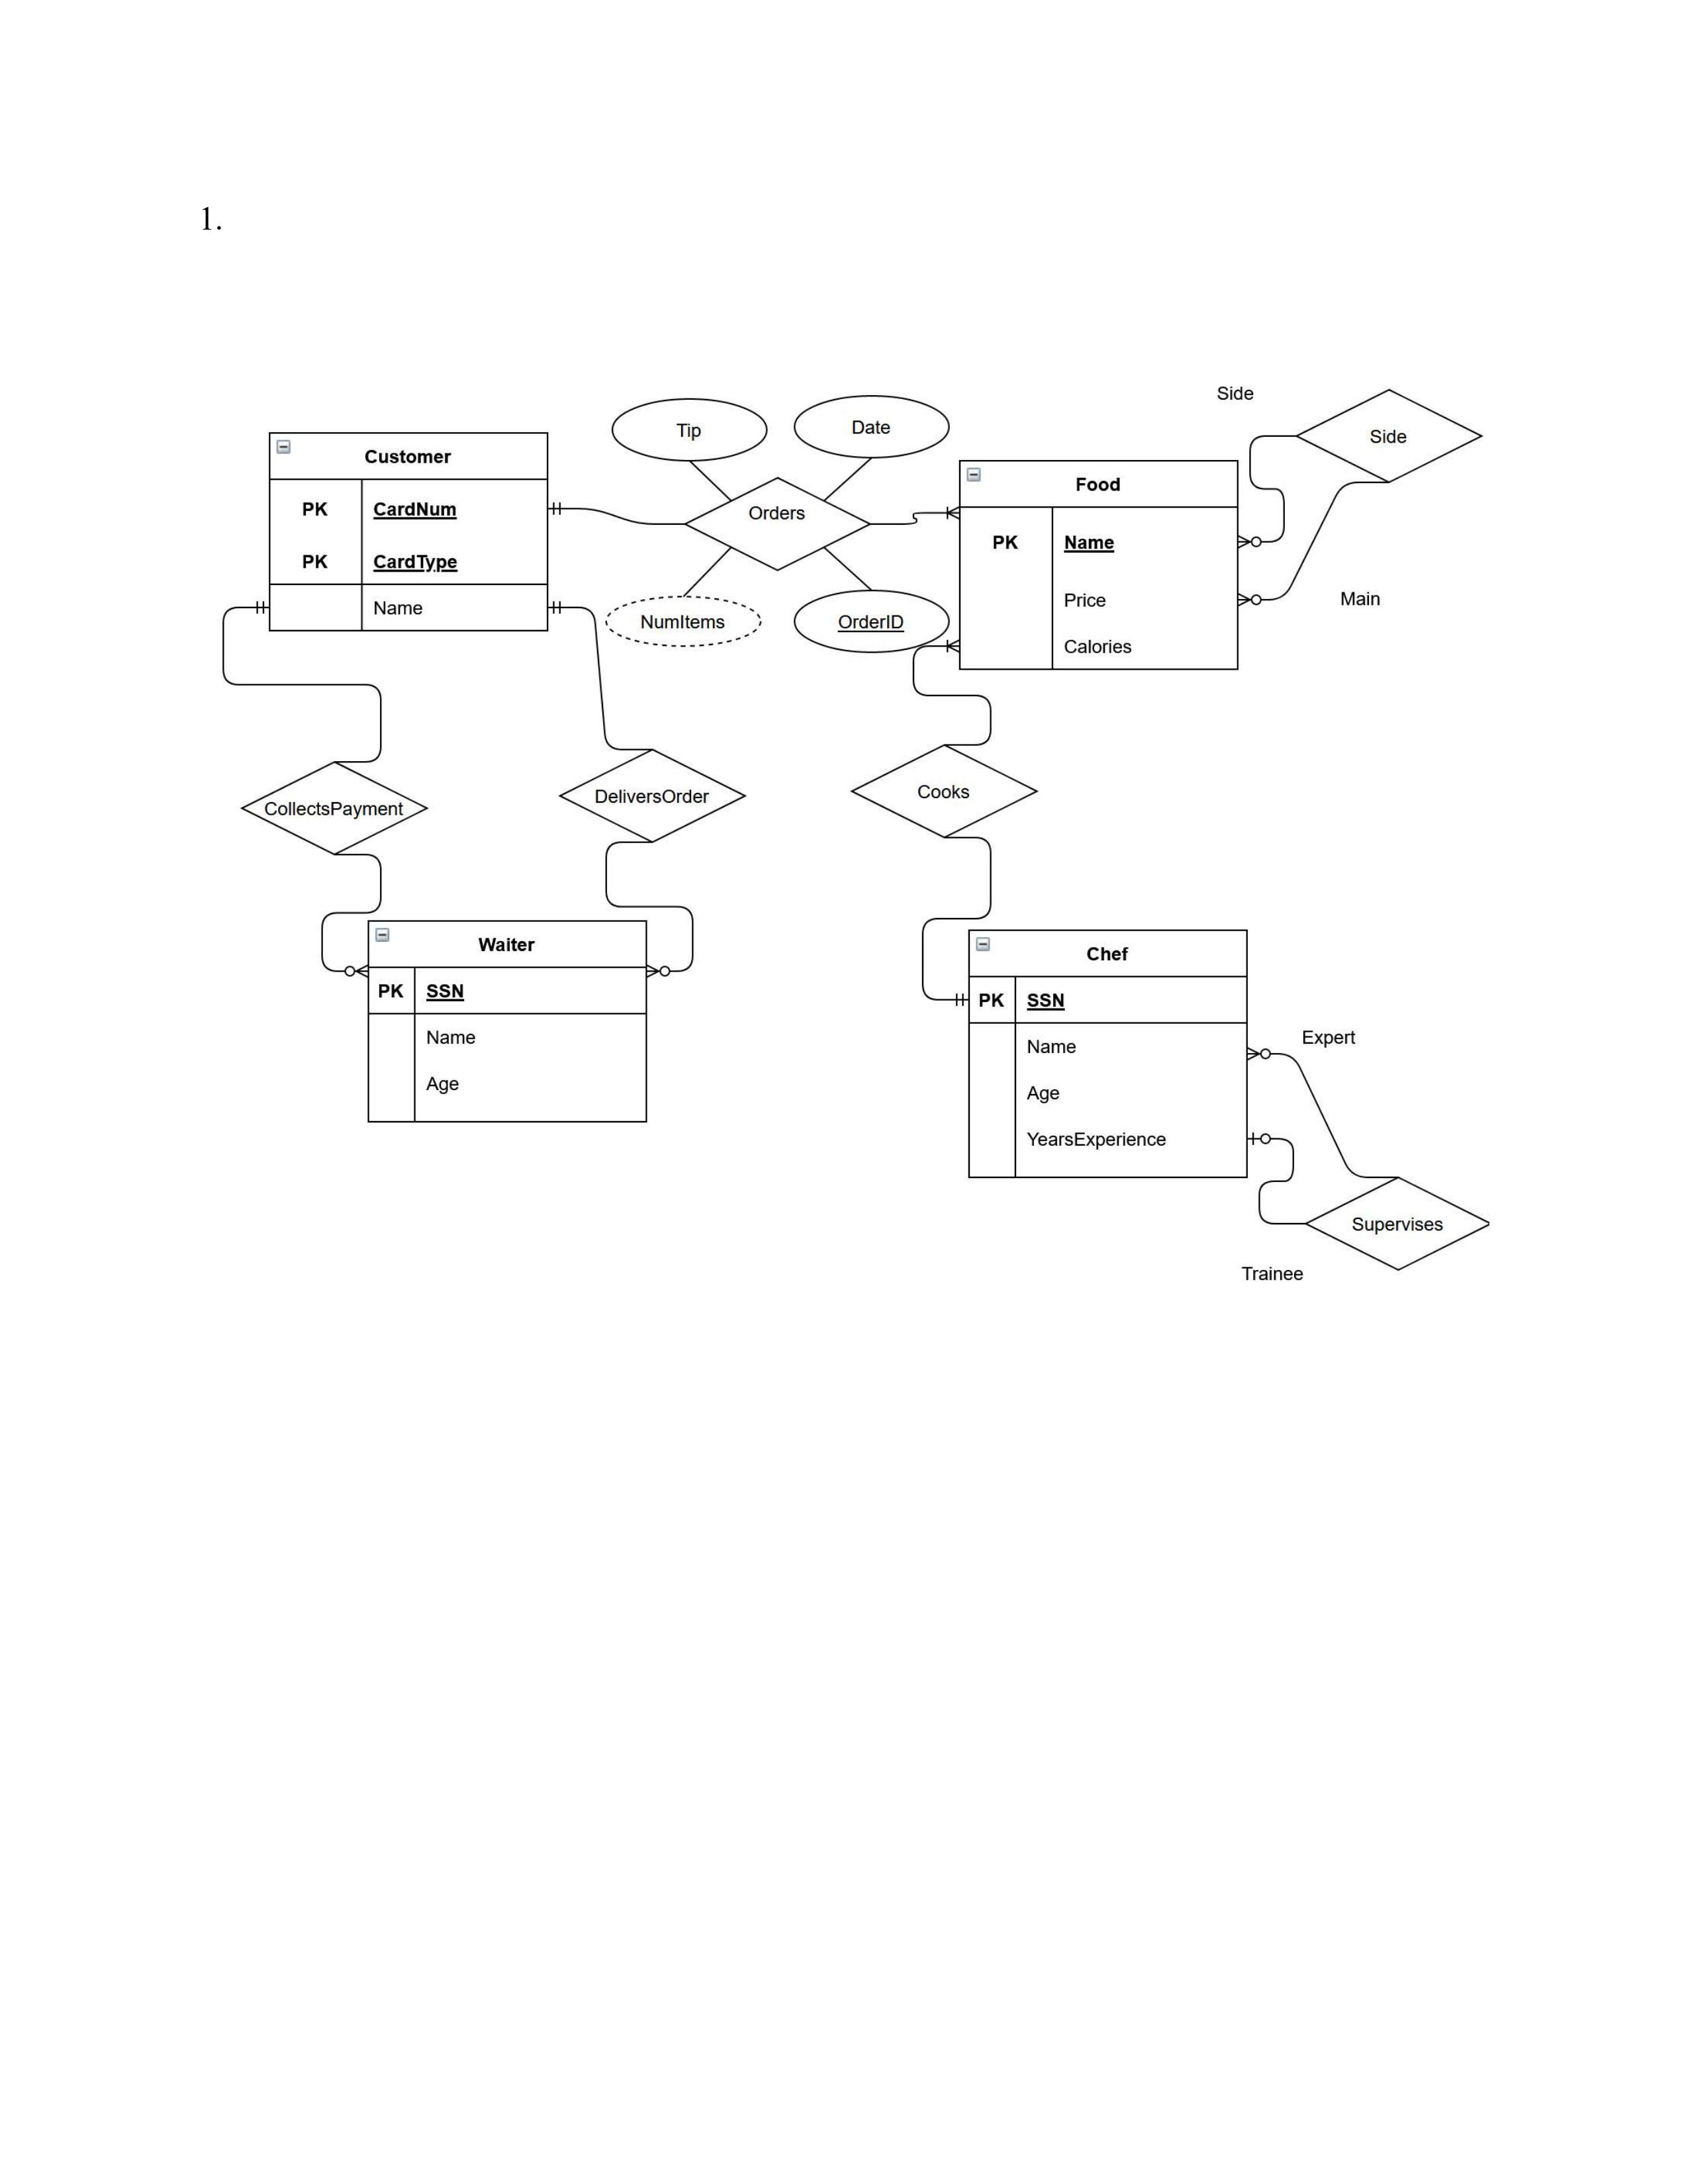Attribute: (793, 589, 952, 656), (610, 397, 770, 463), (793, 395, 950, 461), (603, 596, 762, 647)
Entity: (966, 927, 1248, 1181), (957, 457, 1241, 674), (365, 918, 651, 1126), (266, 431, 551, 635)
Relationship: (559, 748, 746, 842), (849, 745, 1037, 838), (1294, 390, 1481, 484), (1305, 1179, 1489, 1273), (684, 477, 872, 569), (239, 764, 429, 854)
